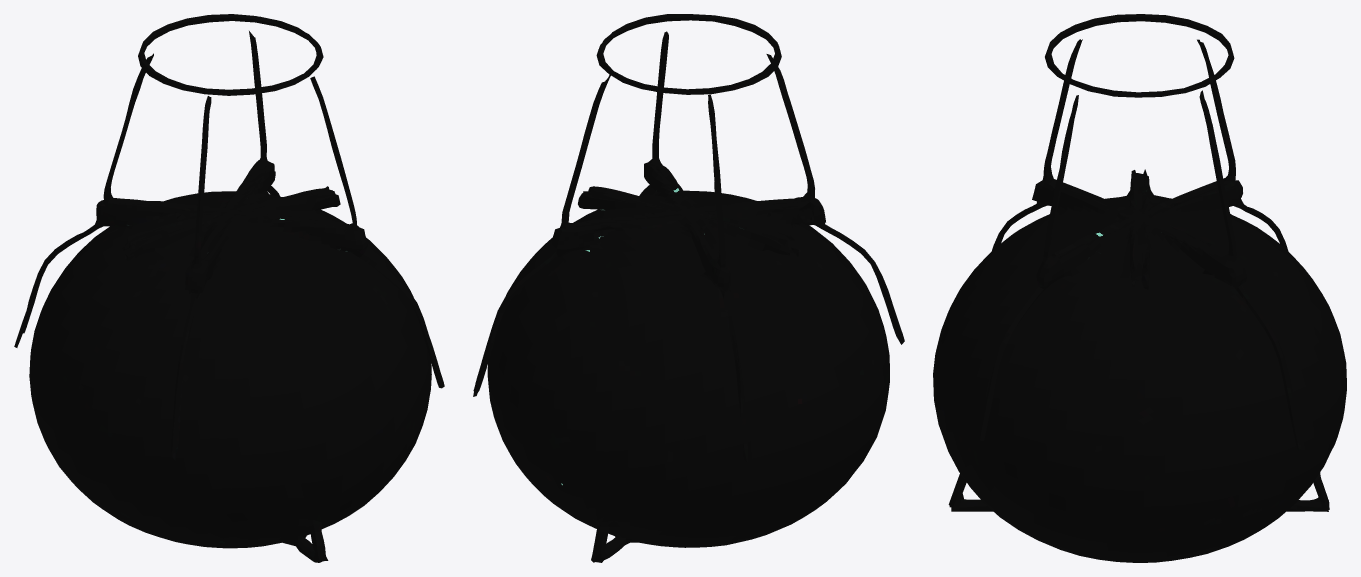
The model's file is SM_LootBag_White_QuadRetro.glb.
The picture shows the model from 3 angles, left to right: view 1: azimuth 30°, elevation 25°; view 2: azimuth 150°, elevation 25°; view 3: azimuth 270°, elevation 25°; orthographic projection. The views are drawn at different scales.
Visible parts, largest first — view 1: LootBag_White_QuadRemesh; view 2: LootBag_White_QuadRemesh; view 3: LootBag_White_QuadRemesh.
Boxes of the visible parts, x1,y1,x2,y2 form: LootBag_White_QuadRemesh: (14,14,444,562); LootBag_White_QuadRemesh: (473,14,904,562); LootBag_White_QuadRemesh: (933,14,1346,562).
Bounding box in the file's own units: 1.55 × 2 × 1.55.
Materials: 1 (1 with a texture image).
